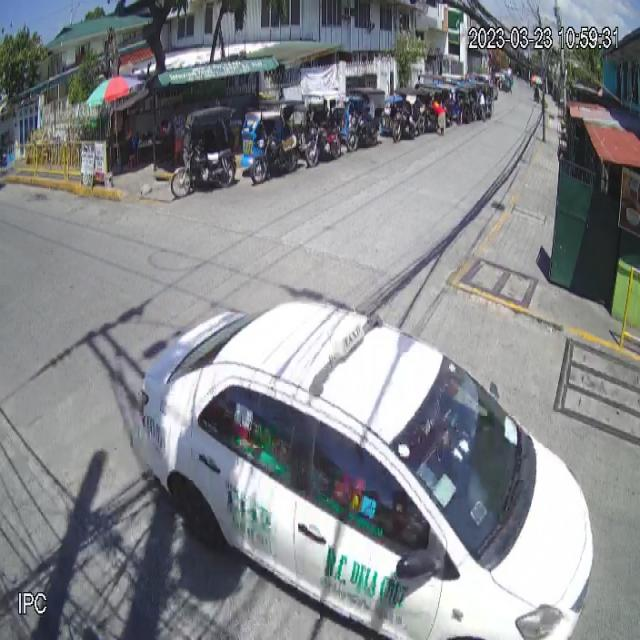Car: (137, 300, 597, 640)
